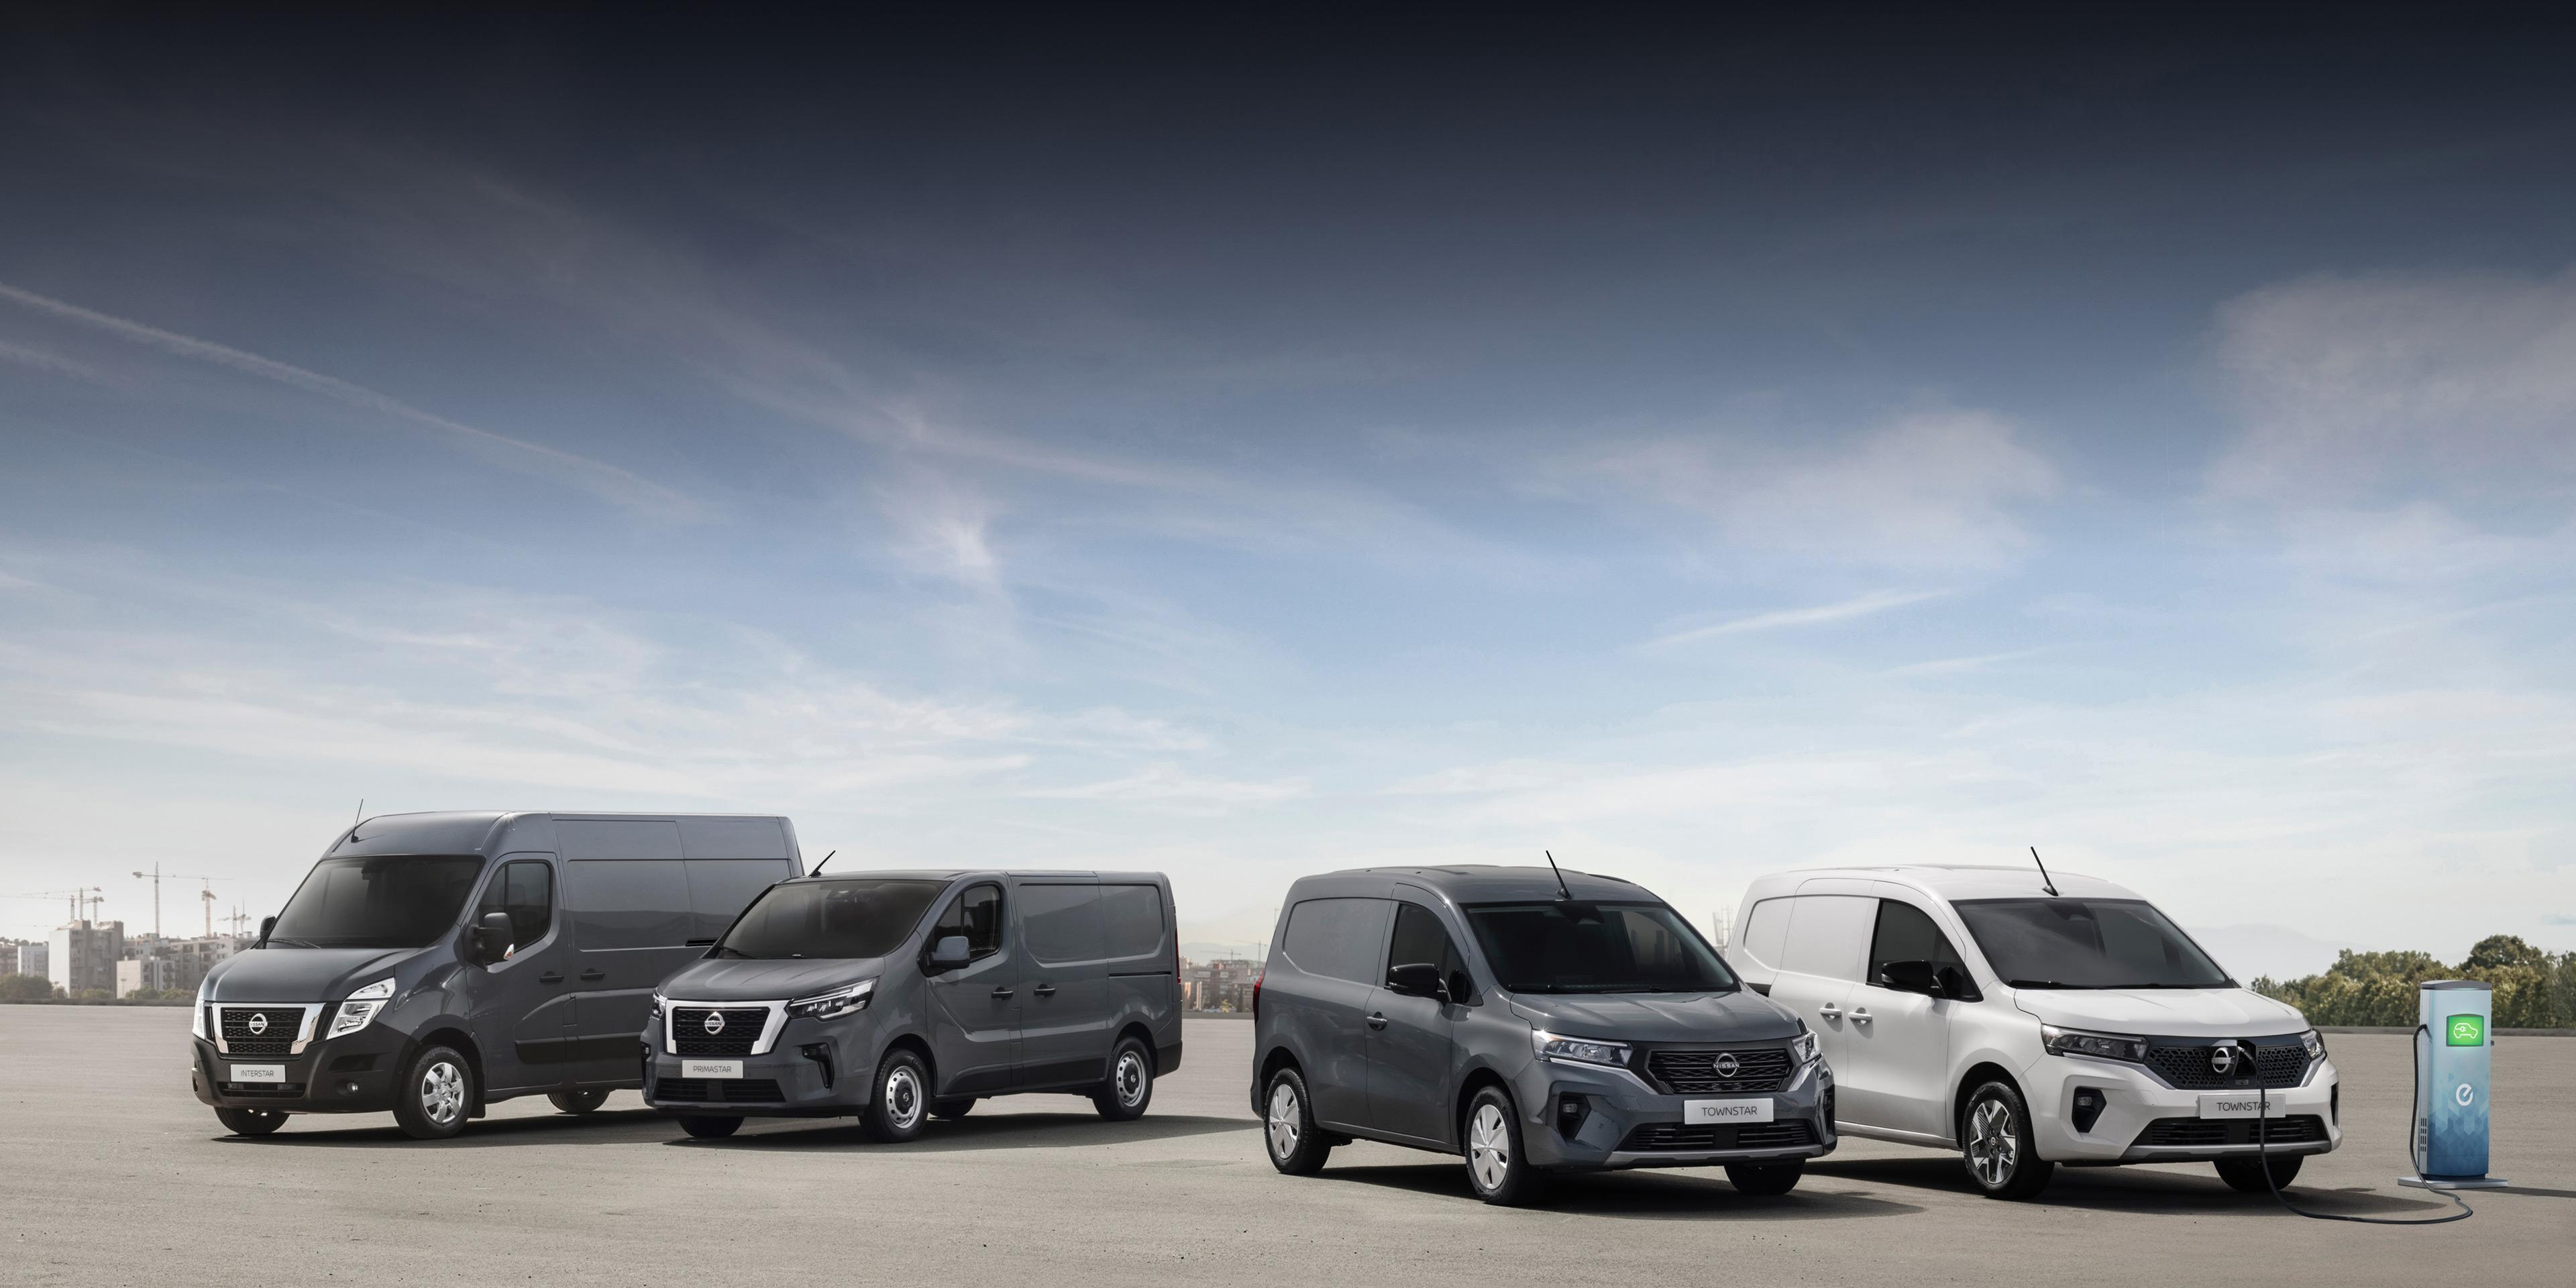van: (1720, 862, 2348, 1203), (191, 812, 807, 1137), (1247, 864, 1835, 1199), (637, 871, 1181, 1143)
